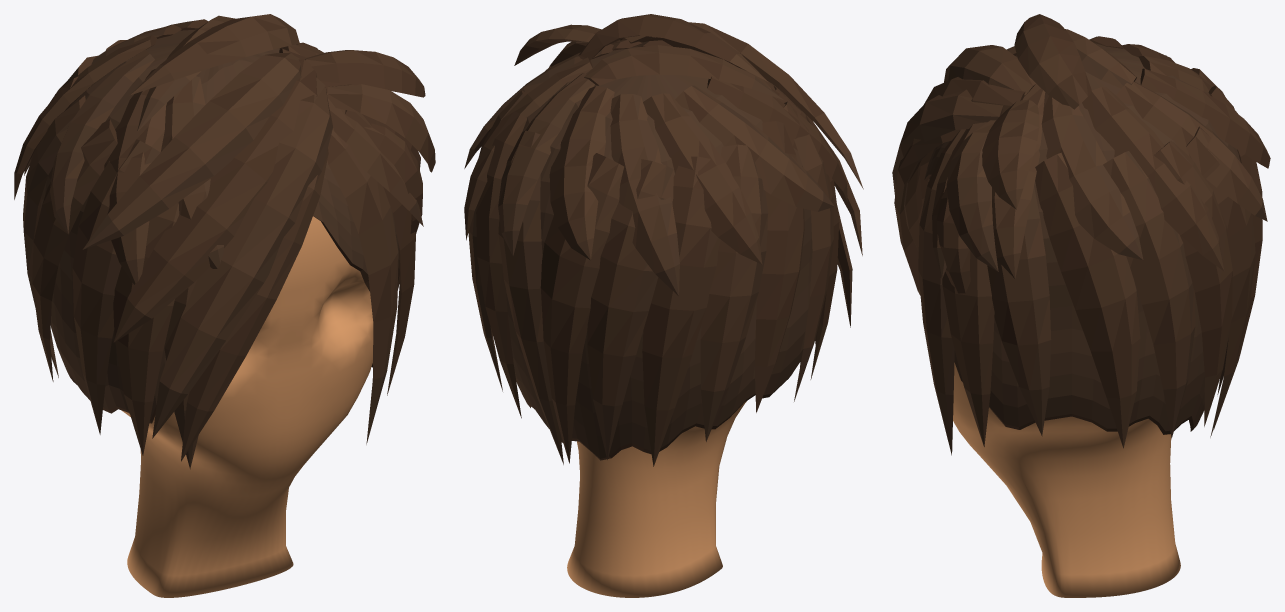
Rendered from base-05-corte-01.glb.
The picture shows the model from 3 angles, left to right: view 1: azimuth 30°, elevation 25°; view 2: azimuth 150°, elevation 25°; view 3: azimuth 270°, elevation 25°; orthographic projection. The views are drawn at different scales.
Parts seen in each view (by area): view 1: RCL_Corte_Feminino_01, RCL_Base_Feminina_05; view 2: RCL_Corte_Feminino_01, RCL_Base_Feminina_05; view 3: RCL_Corte_Feminino_01, RCL_Base_Feminina_05.
Boxes of the visible parts, box(x1,y1,x2,y2) form: RCL_Corte_Feminino_01: box(14, 14, 435, 469); RCL_Base_Feminina_05: box(121, 216, 373, 597); RCL_Corte_Feminino_01: box(464, 14, 863, 466); RCL_Base_Feminina_05: box(567, 401, 746, 597); RCL_Corte_Feminino_01: box(892, 14, 1270, 455); RCL_Base_Feminina_05: box(953, 362, 1180, 597).
Bounding box in the file's own units: 0.222 × 0.3331 × 0.2118.
